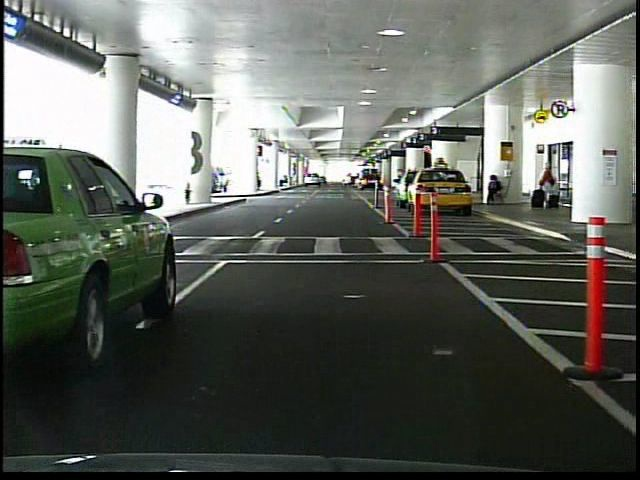person: (71, 148, 95, 225), (540, 162, 560, 211), (484, 173, 505, 206)
